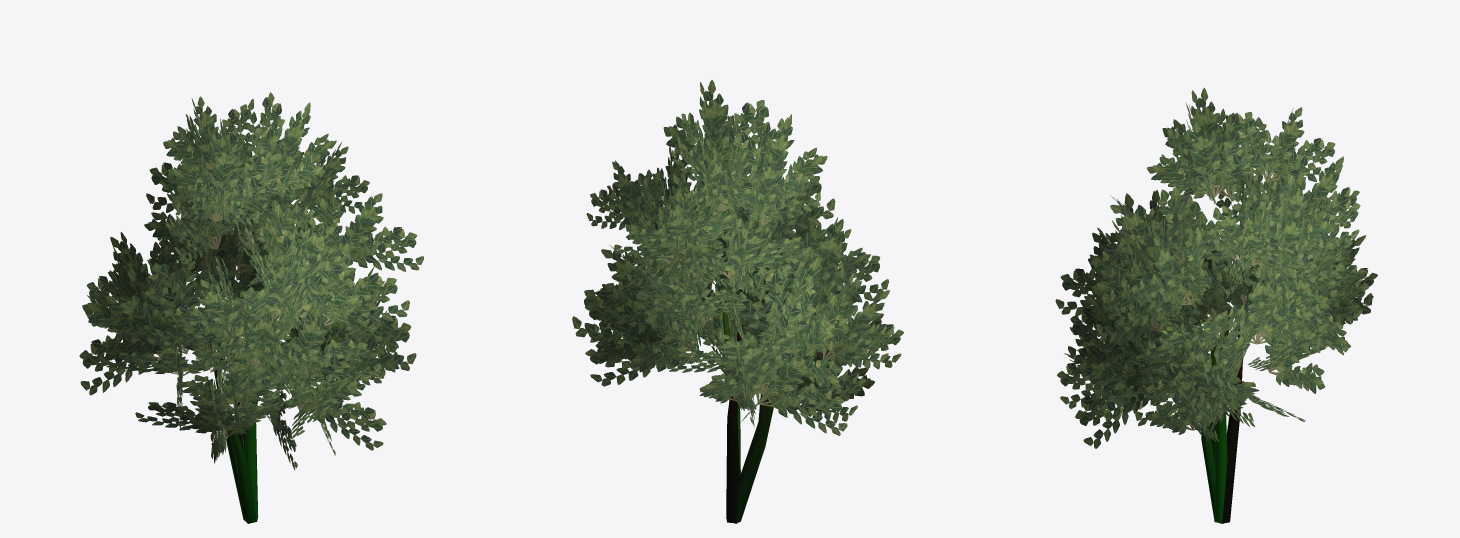
The model's file is SM_Bush_SmallLeaf_Tall.fbx.
The picture shows the model from 3 angles, left to right: view 1: azimuth 30°, elevation 25°; view 2: azimuth 150°, elevation 25°; view 3: azimuth 270°, elevation 25°; orthographic projection.
Parts seen in each view (by area): view 1: SM_Bush_SmallLeaf_Tall_LOD0; view 2: SM_Bush_SmallLeaf_Tall_LOD0; view 3: SM_Bush_SmallLeaf_Tall_LOD0.
Boxes of the visible parts, left/top/right/bottom form: SM_Bush_SmallLeaf_Tall_LOD0: left=79, top=92, right=423, bottom=523; SM_Bush_SmallLeaf_Tall_LOD0: left=572, top=80, right=903, bottom=523; SM_Bush_SmallLeaf_Tall_LOD0: left=1055, top=87, right=1377, bottom=523.
Size of what is drawn, in the model's own units: 2.05 by 2.33 by 1.95.
